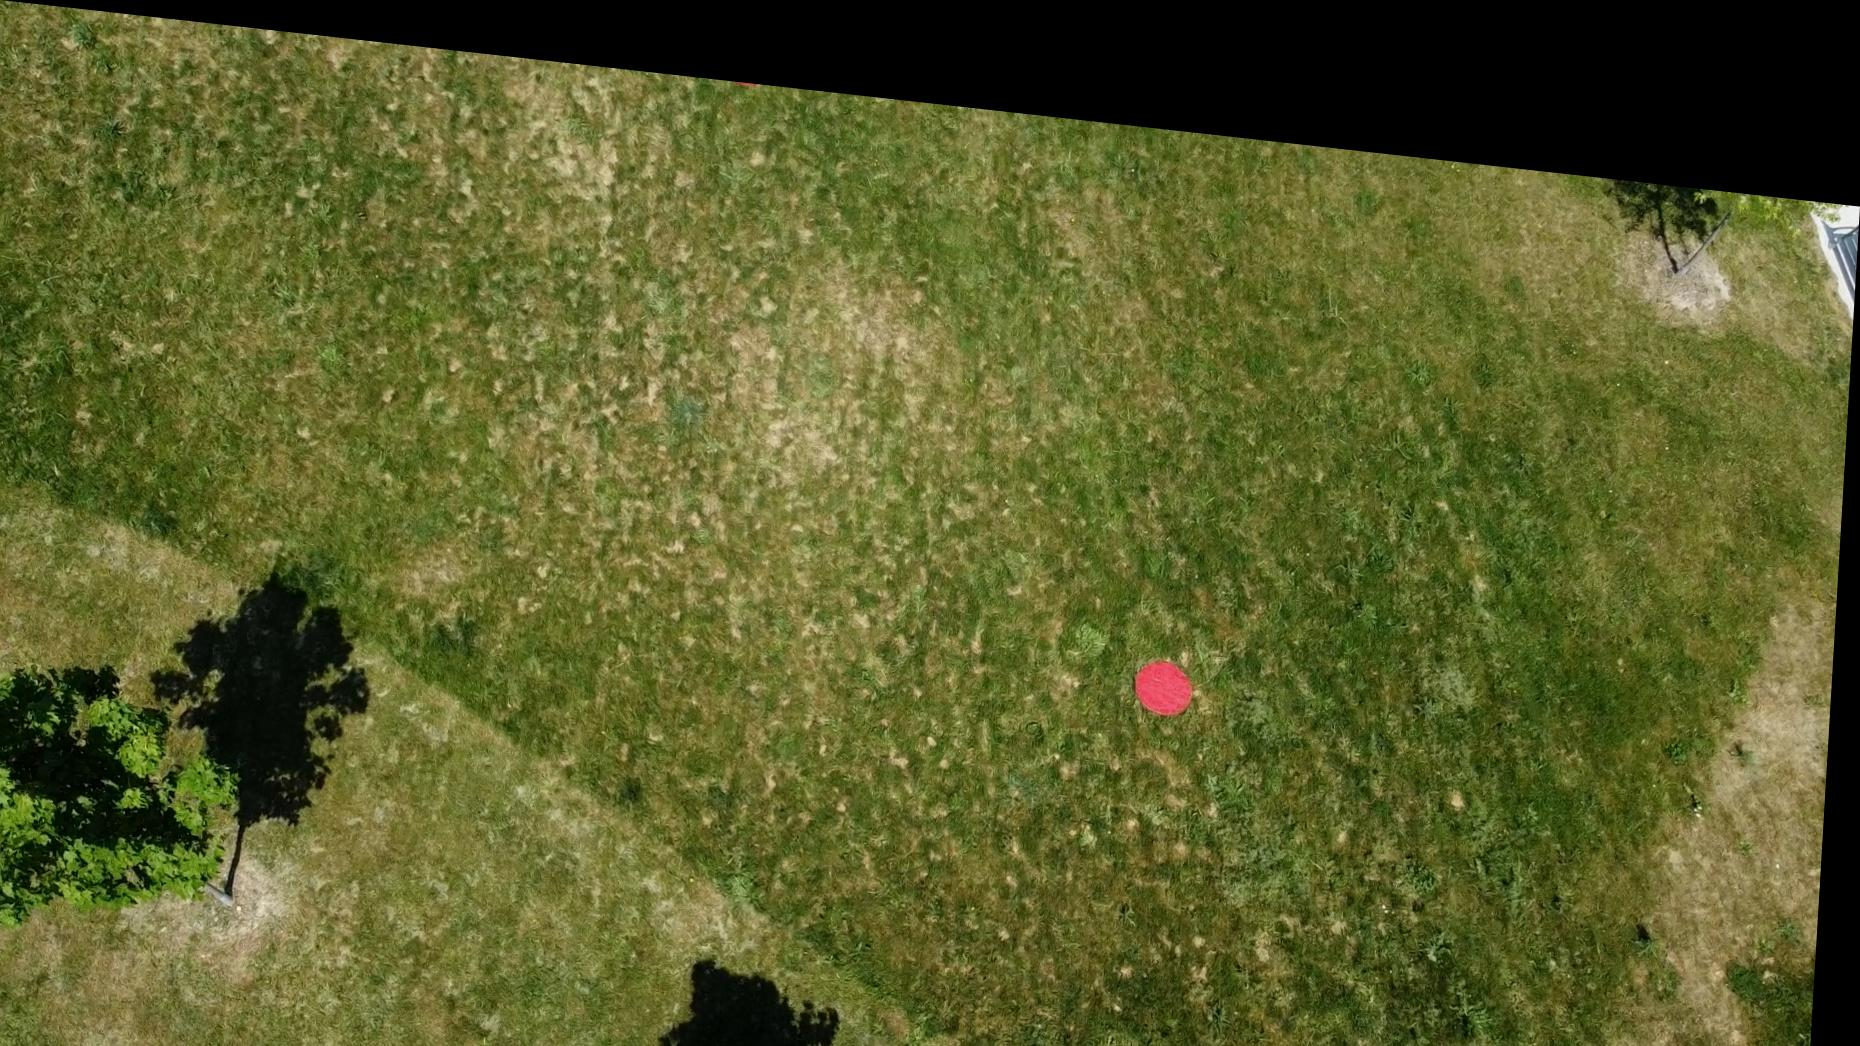Red: (1137, 627, 1203, 692)
